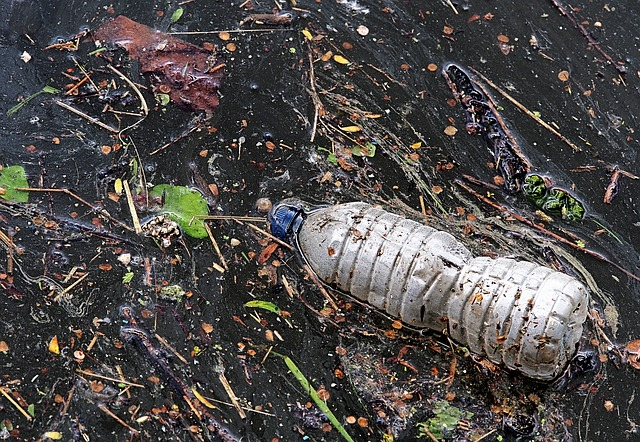plastic_bottle: (271, 196, 593, 390)
